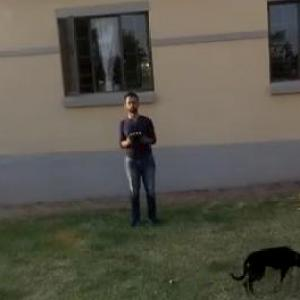follow: (118, 86, 163, 231)
null: (227, 239, 300, 299)
